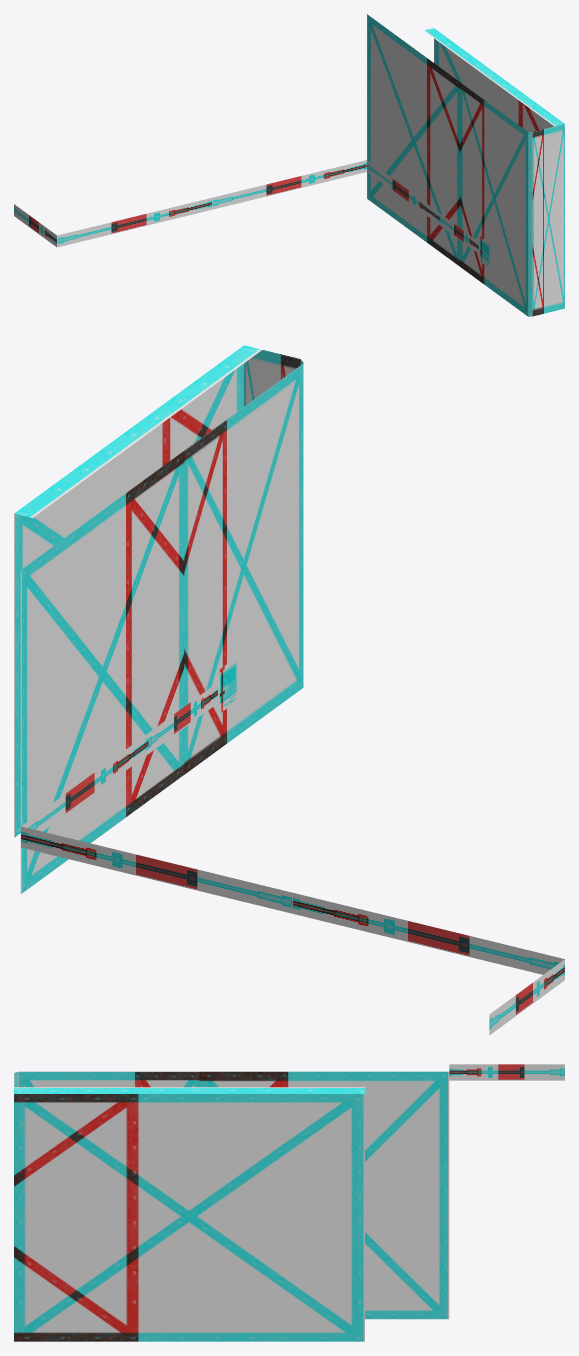
Rendered from Gizmos test.fbx.
The picture shows the model from 3 angles, top to bottom: view 1: azimuth 30°, elevation 25°; view 2: azimuth 150°, elevation 25°; view 3: azimuth 270°, elevation 25°; orthographic projection. The views are drawn at different scales.
Visible parts, largest first — view 1: Plane; view 2: Plane; view 3: Plane.
Boxes of the visible parts, x1,y1,x2,y2 form: Plane: [14, 14, 564, 316]; Plane: [14, 345, 564, 1035]; Plane: [14, 1064, 564, 1341].
Bounding box in the file's own units: 1.16 × 0.593 × 1.19.
